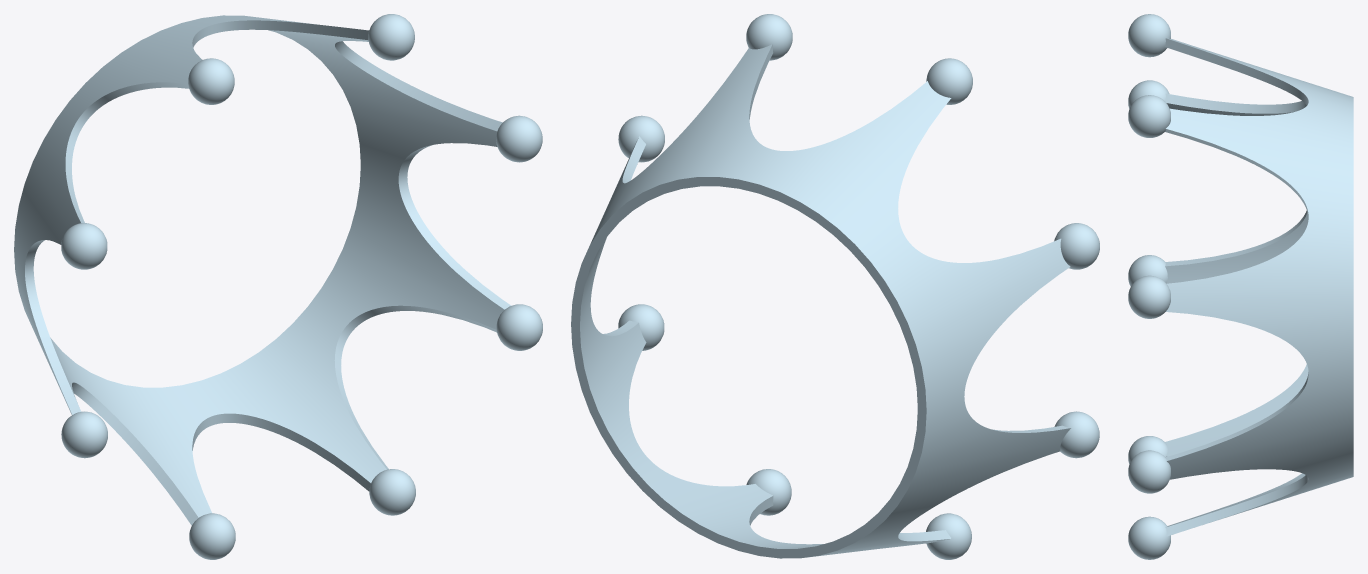
The model's file is crown.gltf.
3 renders of one model, left to right at view 1: azimuth 30°, elevation 25°; view 2: azimuth 150°, elevation 25°; view 3: azimuth 270°, elevation 25°, orthographic. The views are drawn at different scales.
Visible parts, largest first — view 1: crown; view 2: crown; view 3: crown.
Part boxes in pixels (x1,y1,x2,y2): crown: (14,14,542,559); crown: (571,14,1099,559); crown: (1128,14,1353,559).
Size of the model in its own units: 0.2817 by 0.2816 by 0.1249.
